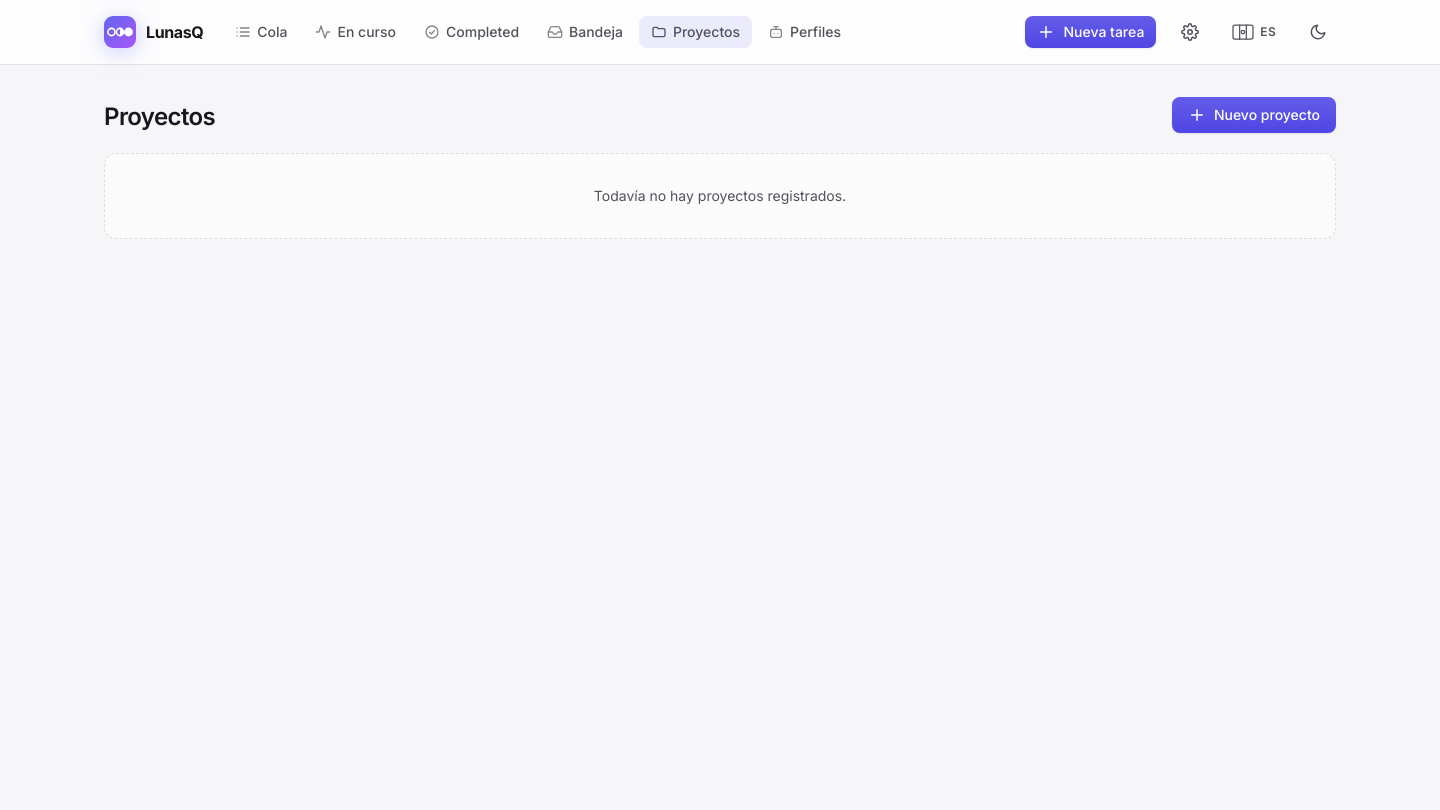
Test: project creation › lists the profiles per phase, with a no-profile option, and warns while a phase has none
Click the button "Nuevo proyecto": [1254, 115] box [1172, 97, 1336, 133]
(page scrolled)
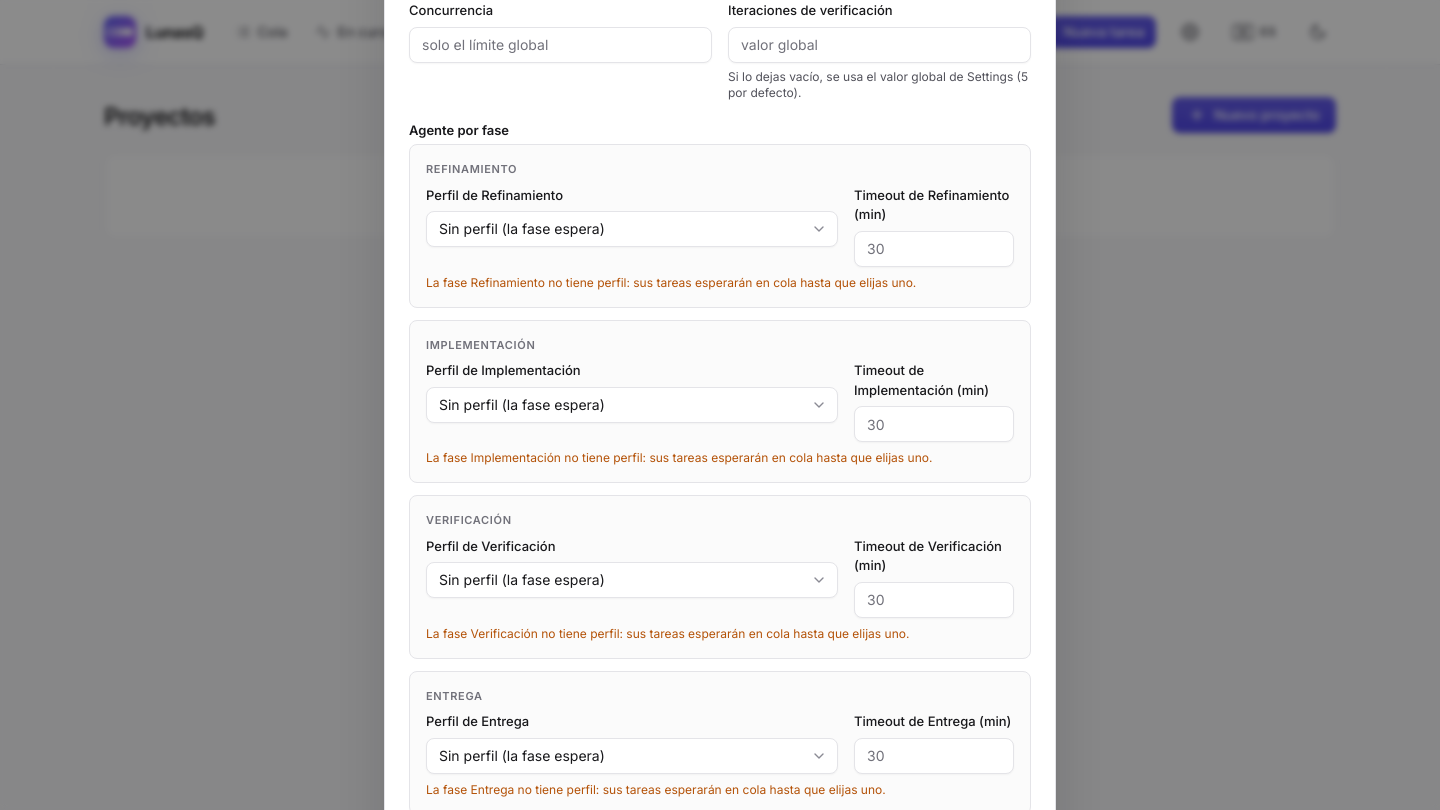
Expected: the dropdown labelled "Perfil de Implementación" shows "Sin perfil (la fase espera)"
Expected: the text "La fase Implementación no tiene perfil" is shown, [426, 450, 932, 465]
Select "Profundo" in the dropdown labelled "Perfil de Implementación": [632, 404] box [426, 386, 838, 422]
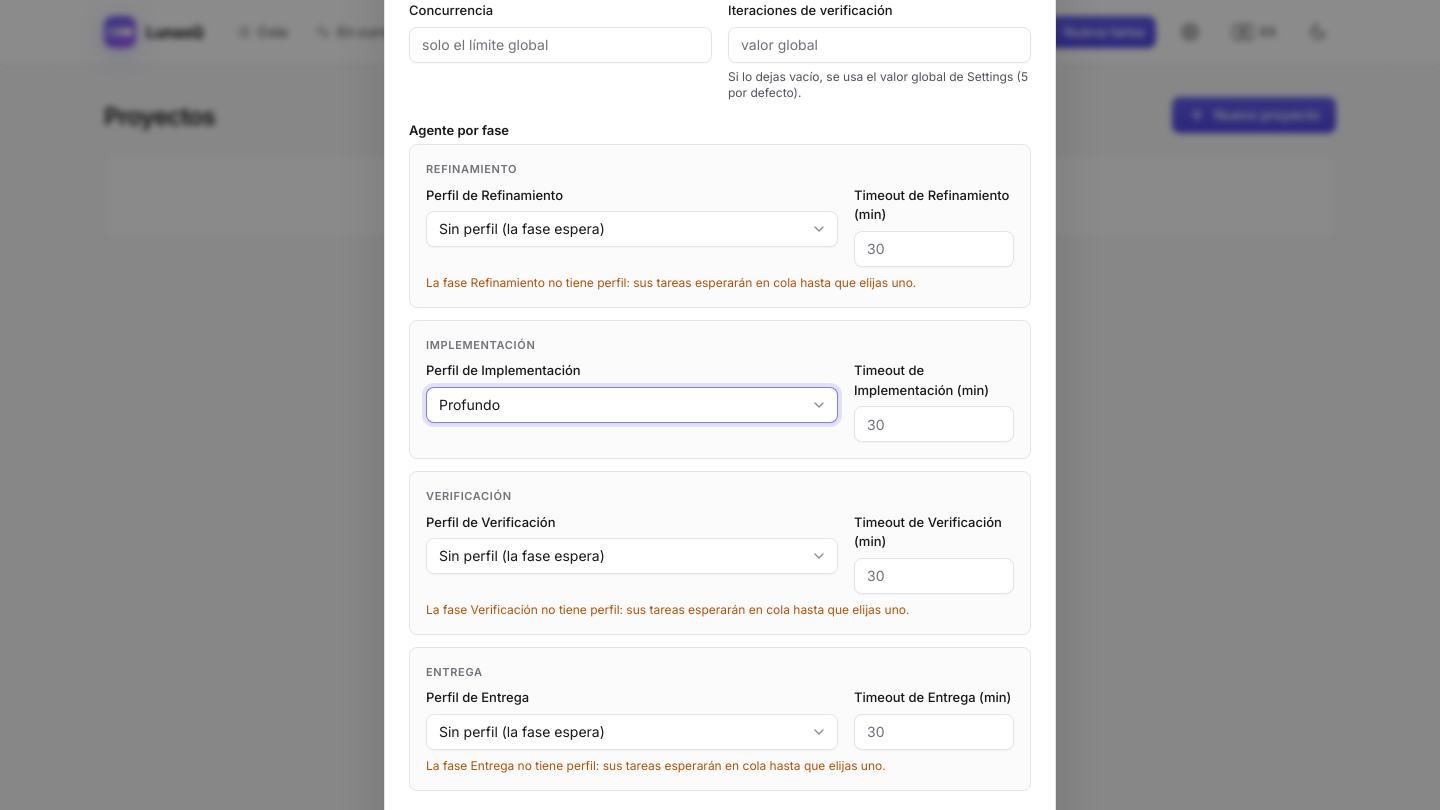
Expected: the text "La fase Implementación no tiene perfil" is gone
